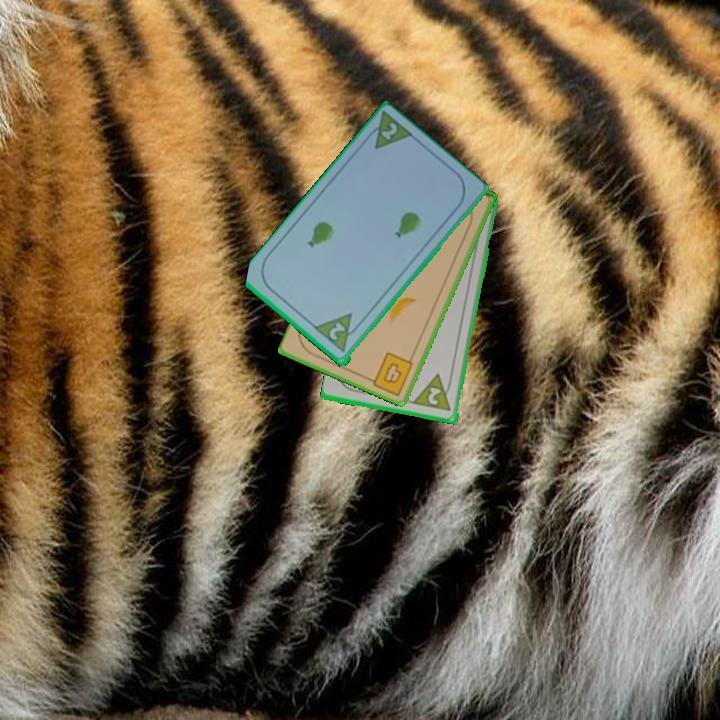2p: (360, 109, 417, 153), (312, 310, 365, 356), (424, 383, 444, 408)
4b: (364, 348, 416, 398)
